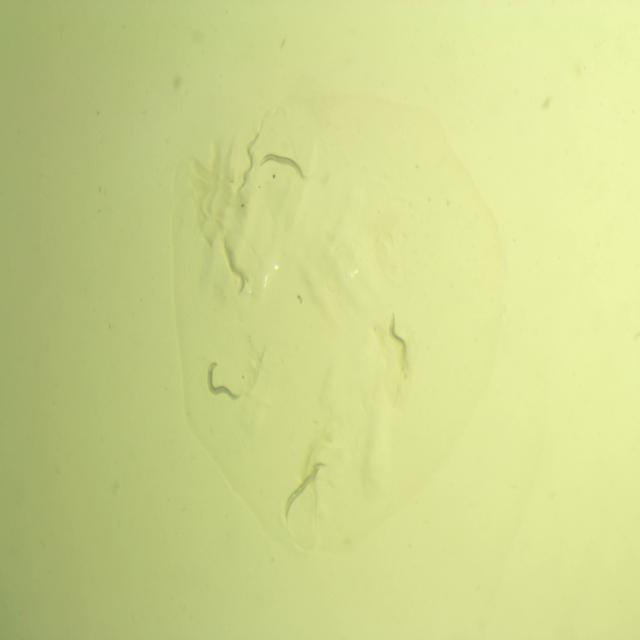worm: (281, 456, 330, 524), (233, 126, 266, 195), (258, 148, 311, 184), (221, 238, 251, 299), (205, 359, 242, 406), (388, 312, 409, 370)
